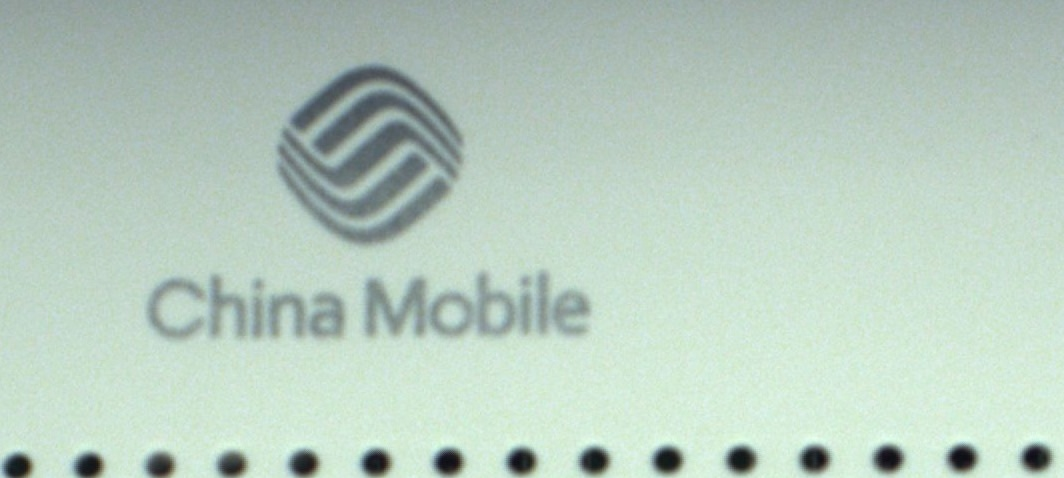AA_ChinaMobile: (131, 61, 596, 356)
